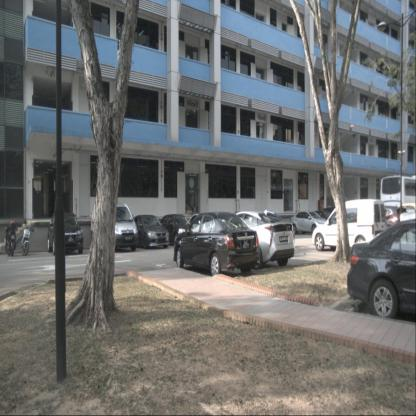vehicle-bus-rigid: (380, 175, 415, 229)
vehicle-car: (346, 219, 416, 322), (173, 211, 261, 278), (216, 211, 294, 270), (311, 199, 387, 254), (99, 203, 139, 252), (354, 205, 408, 238), (48, 211, 84, 256), (127, 215, 170, 249), (158, 214, 196, 247), (289, 211, 329, 235), (307, 210, 339, 233)
vehicle-motorcycle: (20, 221, 34, 256), (6, 220, 16, 257)
